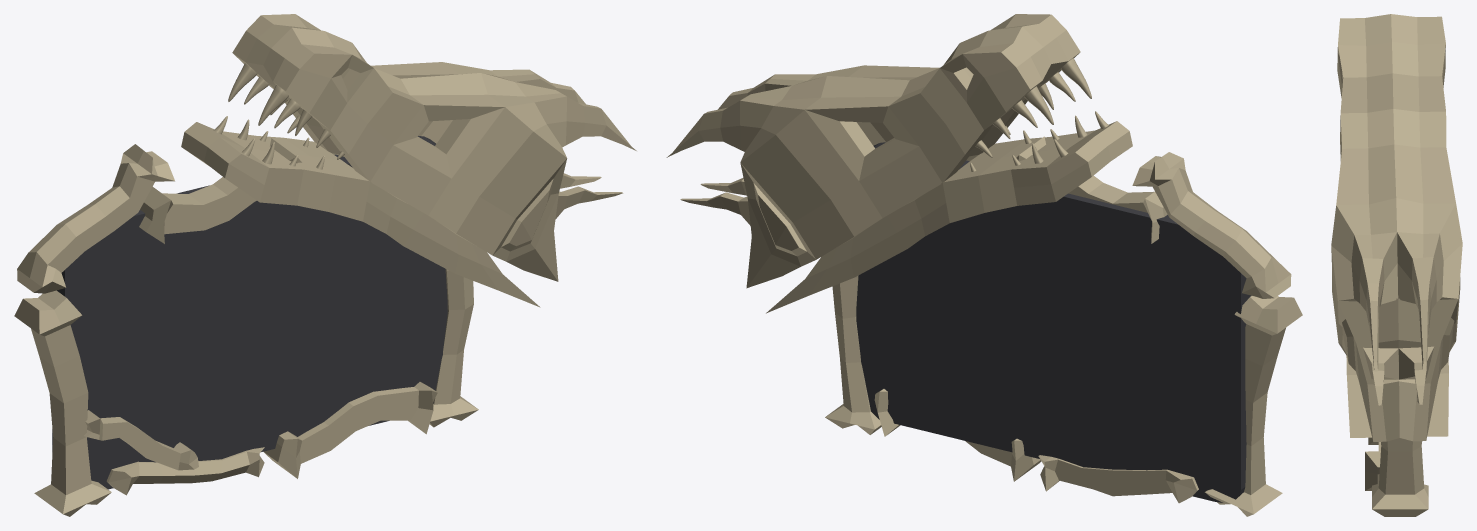
Rendered from DinoPanel.gltf.
3 views of the same model, side by side, from view 1: azimuth 30°, elevation 25°; view 2: azimuth 150°, elevation 25°; view 3: azimuth 270°, elevation 25° (orthographic). The views are drawn at different scales.
Visible parts, largest first — view 1: DinoPanel; view 2: DinoPanel; view 3: DinoPanel.
Boxes of the visible parts, bbox=[...] form: DinoPanel: bbox=[14, 14, 636, 516]; DinoPanel: bbox=[666, 14, 1302, 516]; DinoPanel: bbox=[1331, 14, 1462, 516].
Bounding box in the file's own units: 473 × 331 × 90.97.
